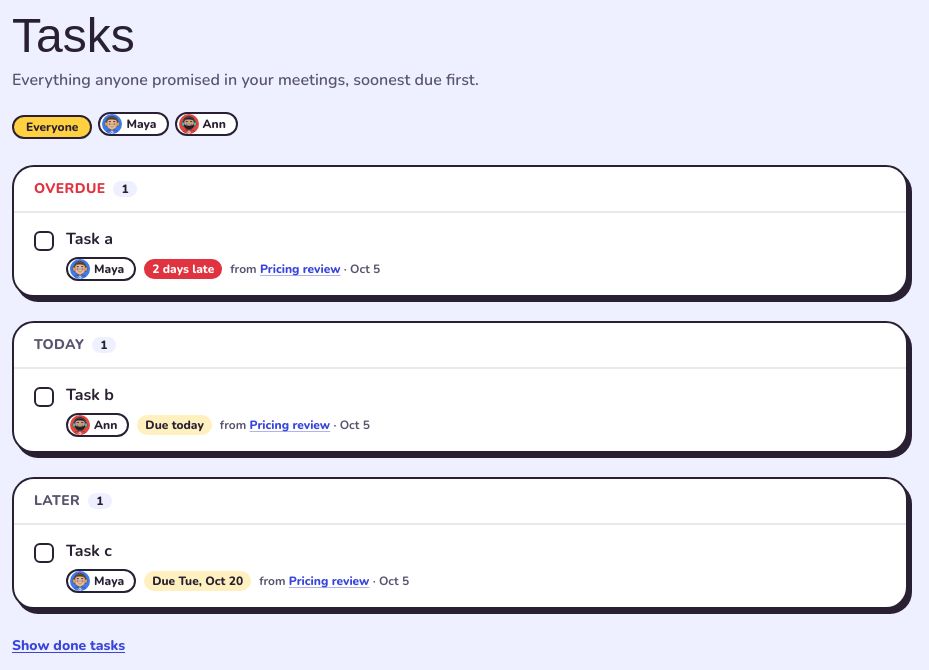
Test case: TasksView › filters by owner and ticks a task off through its meeting
Click the button "Ann".
click(206, 126)  # box [175,112,238,141]
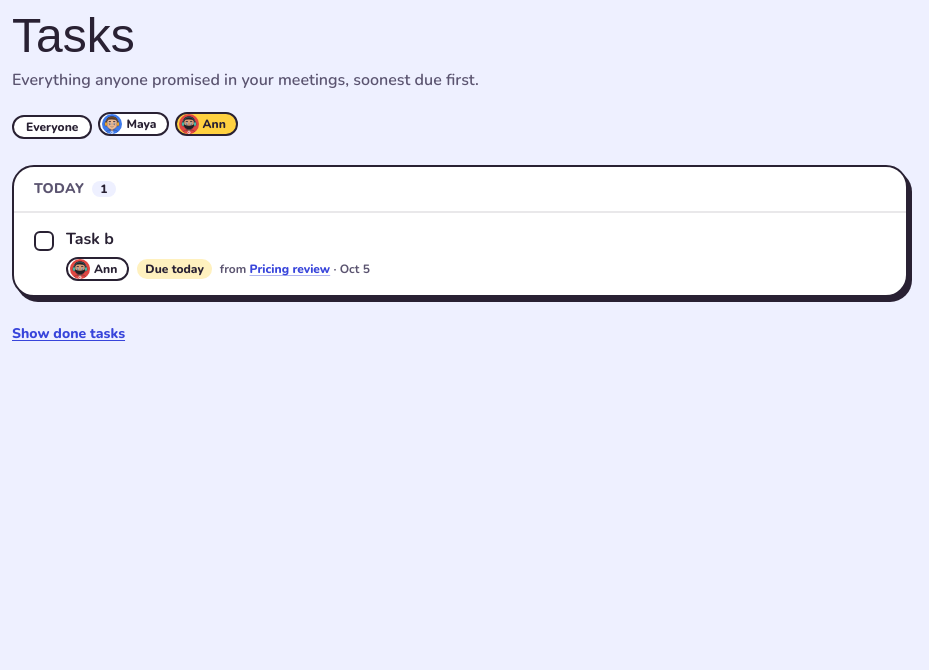
Expected: the text "Task a" is gone
Click the checkbox labelled "Task b".
click(44, 241)  # box [34,231,54,251]
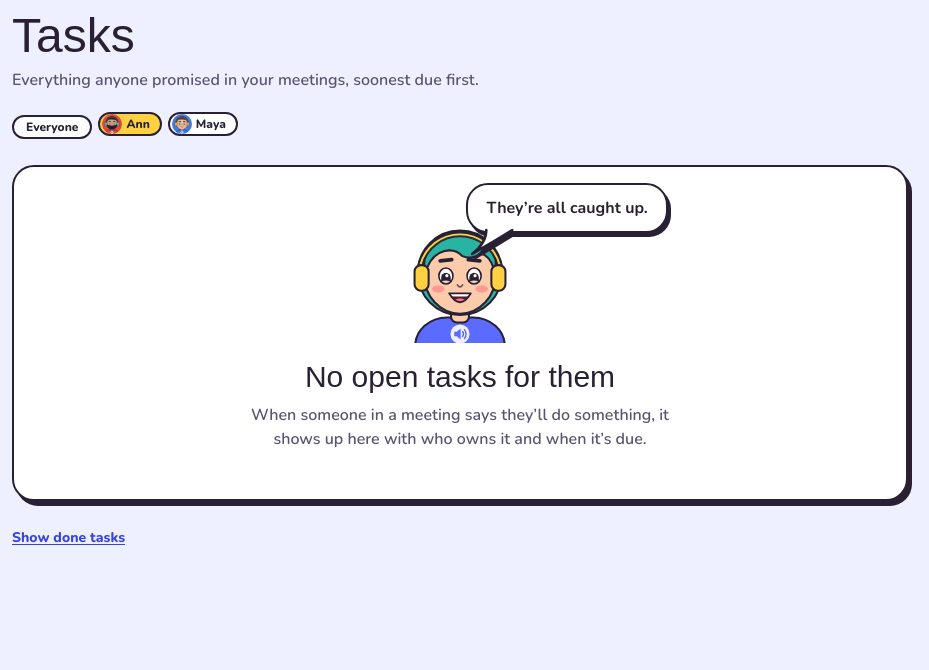
Expected: the label "Task b" is gone
Click the button "Everyone".
click(52, 126)  # box [12,114,92,138]
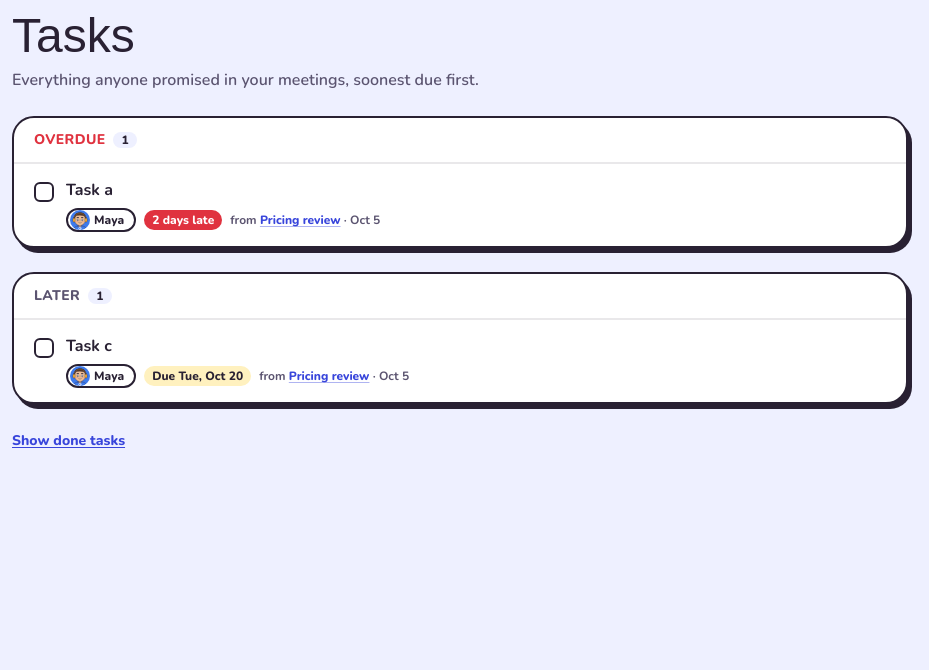
Expected: the text "Task a" is shown, [66,179,113,201]
